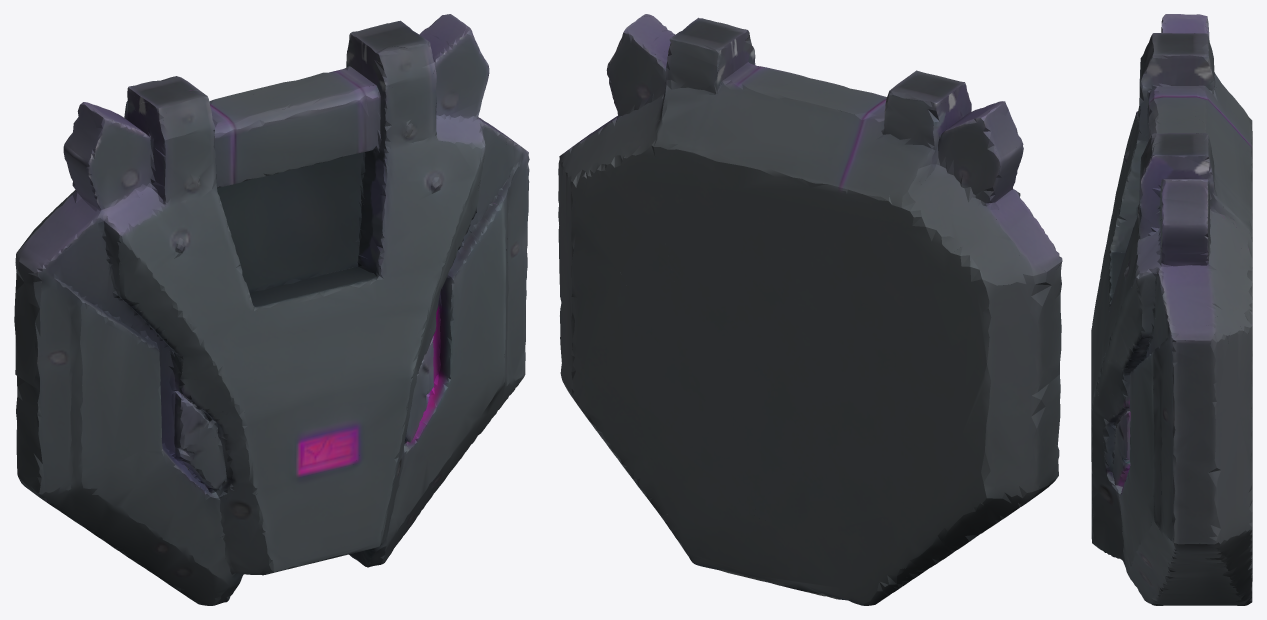
Rendered from classiclemans_armor2.glb.
The picture shows the model from 3 angles, left to right: view 1: azimuth 30°, elevation 25°; view 2: azimuth 150°, elevation 25°; view 3: azimuth 270°, elevation 25°; orthographic projection. The views are drawn at different scales.
Parts seen in each view (by area): view 1: Armor_Classic_LeMans.001; view 2: Armor_Classic_LeMans.001; view 3: Armor_Classic_LeMans.001.
Part boxes in pixels (box(x1,y1,x2,y2)): Armor_Classic_LeMans.001: box(14, 14, 529, 605); Armor_Classic_LeMans.001: box(558, 14, 1062, 605); Armor_Classic_LeMans.001: box(1091, 14, 1252, 605).
Size of the model in its own units: 1.21 by 1.19 by 0.3696.
1 material, 1 textured.
